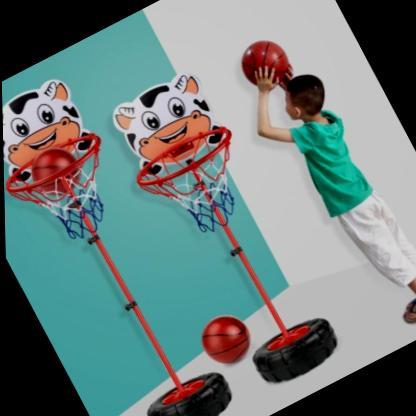basketball: (18, 135, 88, 203), (190, 306, 256, 372), (232, 32, 295, 93)
rim: (231, 42, 416, 350), (2, 121, 142, 264), (130, 121, 266, 248)
